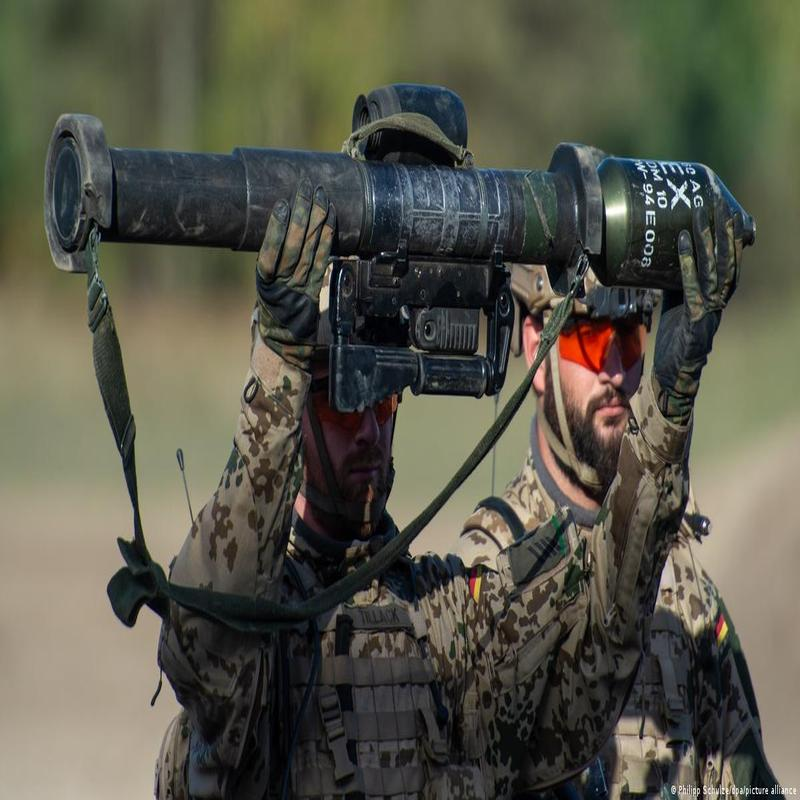GUN: (20, 73, 775, 429)
